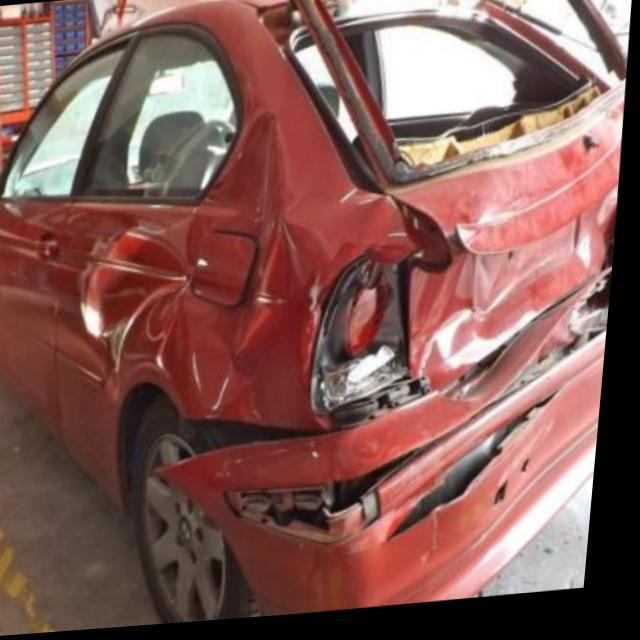crack: (155, 104, 627, 609)
dent: (154, 111, 289, 413), (89, 227, 192, 369)
dislocated part: (195, 235, 265, 309)
glass shatter: (314, 0, 628, 174)
lamp broken: (320, 260, 425, 422)
